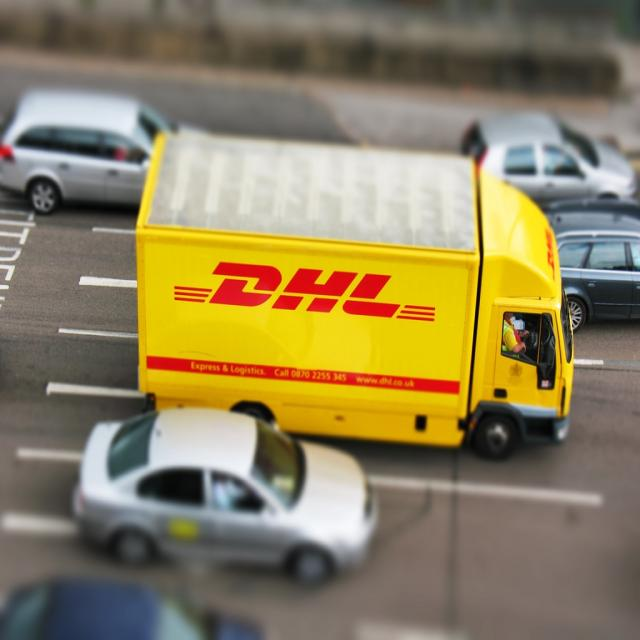dhl: (169, 259, 442, 330)
